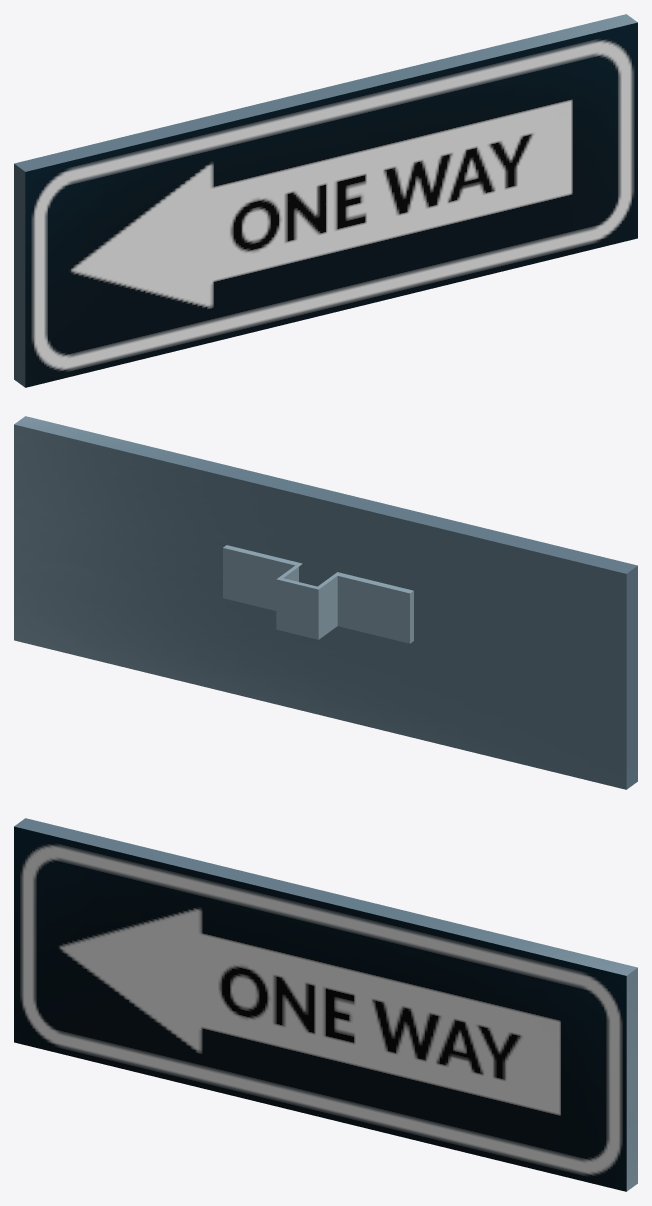
The model's file is Sign45.fbx.
The picture shows the model from 3 angles, top to bottom: view 1: azimuth 30°, elevation 25°; view 2: azimuth 150°, elevation 25°; view 3: azimuth 330°, elevation 25°; orthographic projection.
Visible parts, largest first — view 1: Sign45; view 2: Sign45; view 3: Sign45.
Boxes of the visible parts, x1=… form: Sign45: x1=14, y1=14, x2=637, y2=387; Sign45: x1=14, y1=416, x2=637, y2=789; Sign45: x1=14, y1=818, x2=637, y2=1191.
Bounding box in the file's own units: 1.54 × 0.1489 × 0.5195.
